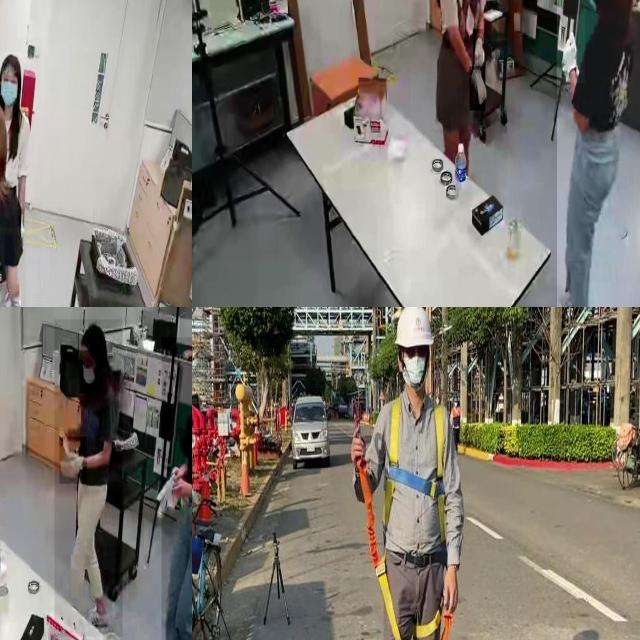Harness: (385, 397, 447, 542), (356, 462, 405, 640), (406, 607, 453, 640)
face_mask: (80, 351, 98, 393), (2, 76, 16, 105)
hand_glove: (556, 15, 585, 83), (59, 436, 87, 484), (470, 66, 486, 112), (473, 29, 483, 70), (7, 289, 23, 307)
hand_noglove: (173, 468, 191, 500)
head_nohelmet: (80, 324, 106, 349), (0, 52, 22, 74)
person: (556, 0, 640, 307), (55, 320, 123, 638), (432, 0, 493, 171), (161, 337, 192, 640), (0, 38, 41, 228)
shoes: (546, 295, 587, 307)
